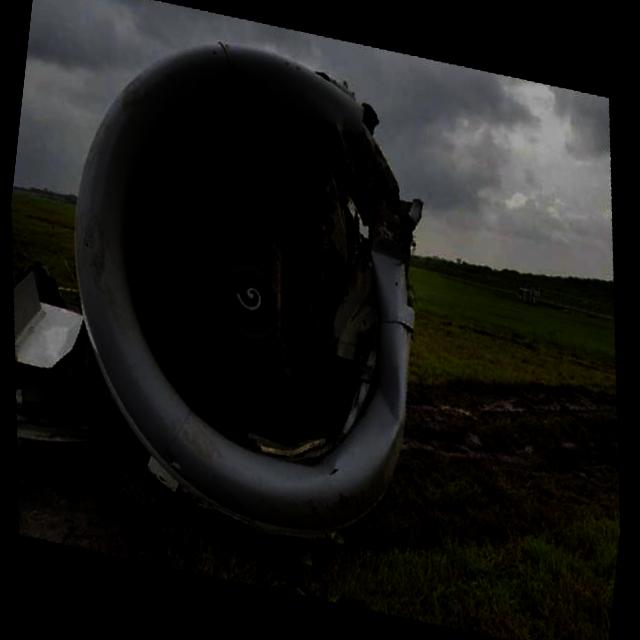dent: (368, 344, 414, 489), (368, 238, 408, 294)
